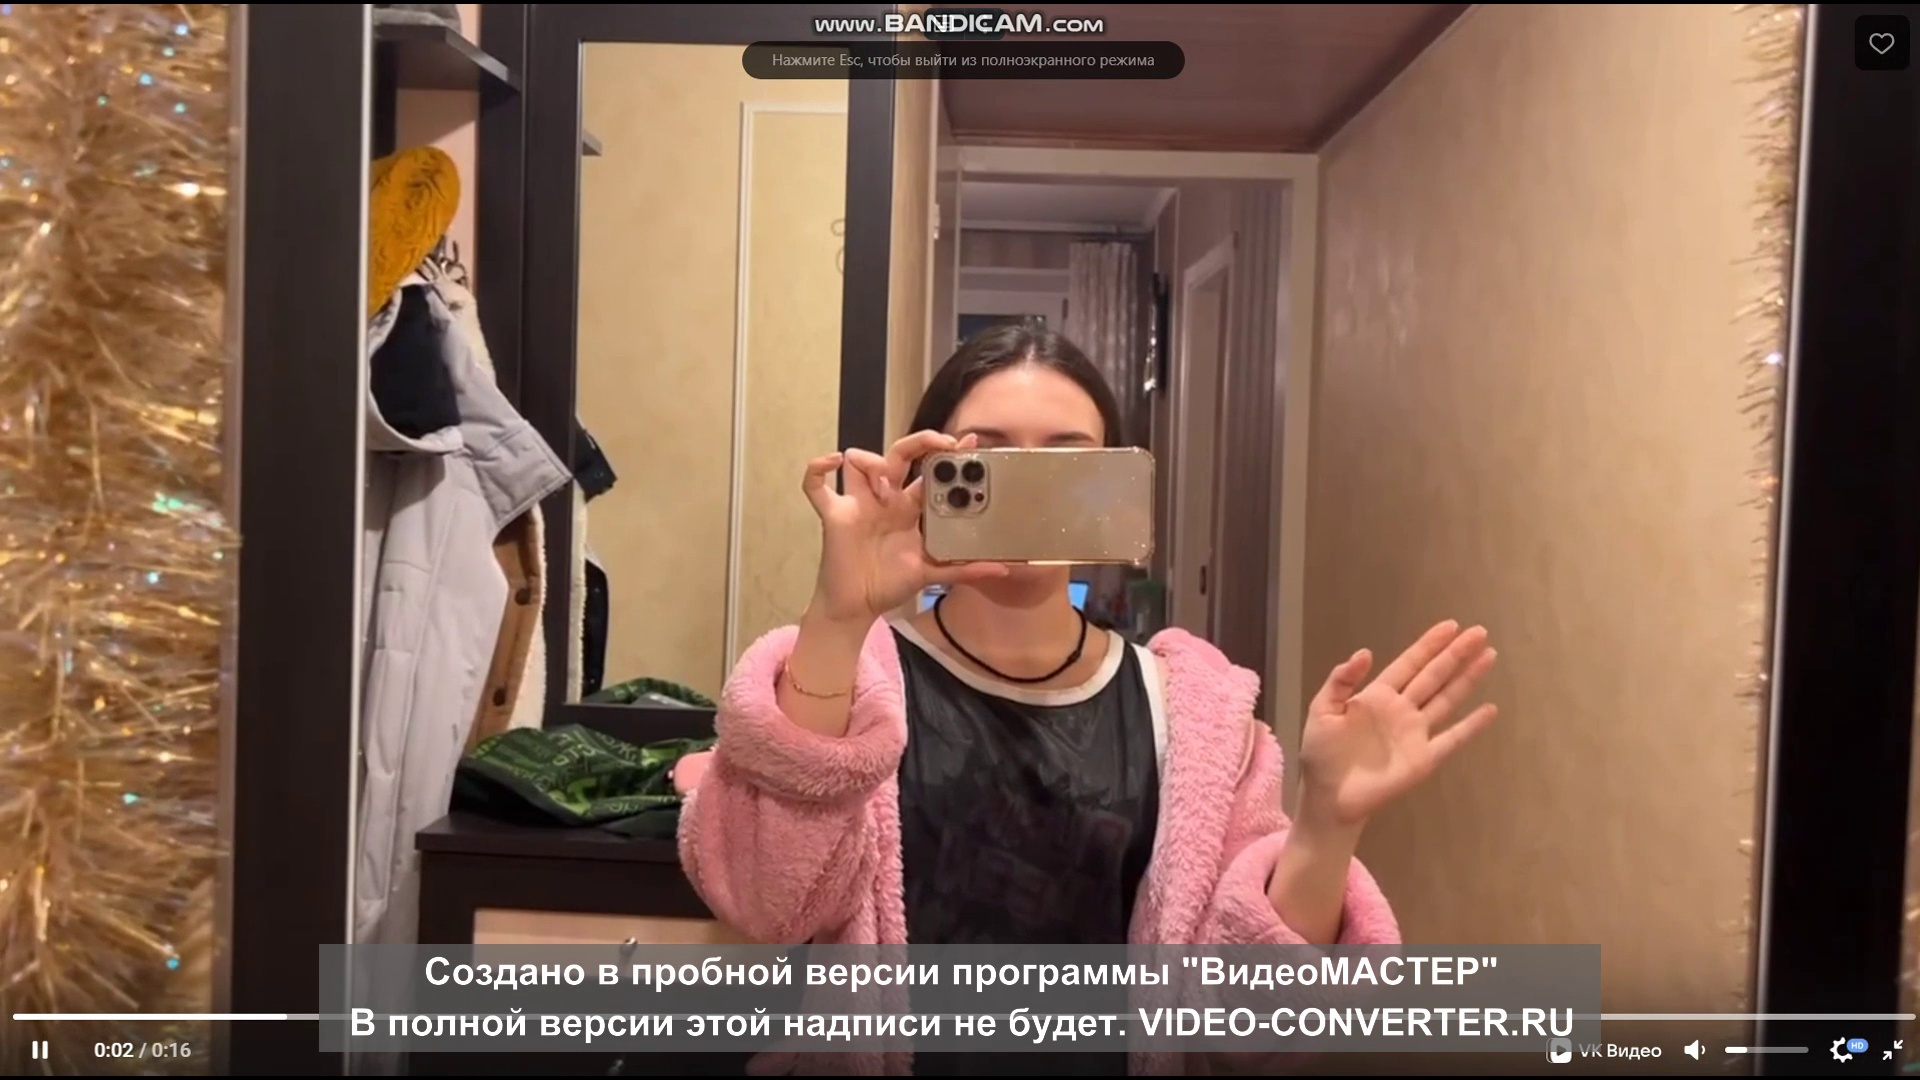Ладонь: (1304, 615, 1499, 810)
